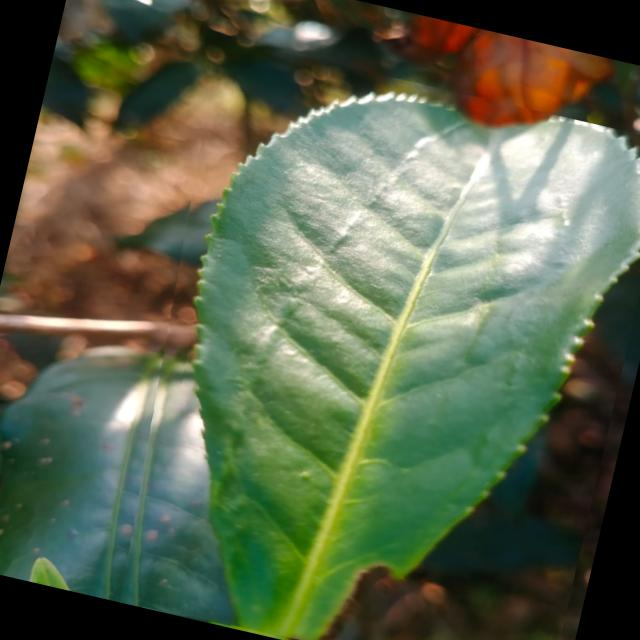Category D(7+ days, Not for Tea): (90, 37, 640, 640)
